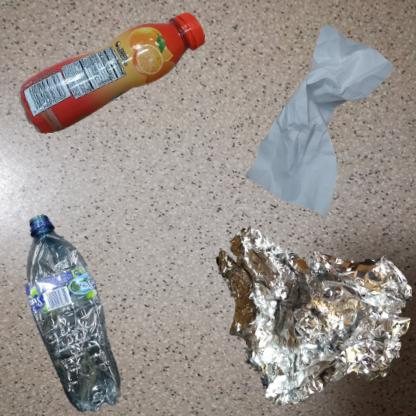aluminio: (213, 213, 416, 412)
botella: (10, 10, 233, 147), (10, 213, 144, 416)
papel: (213, 10, 416, 249)
